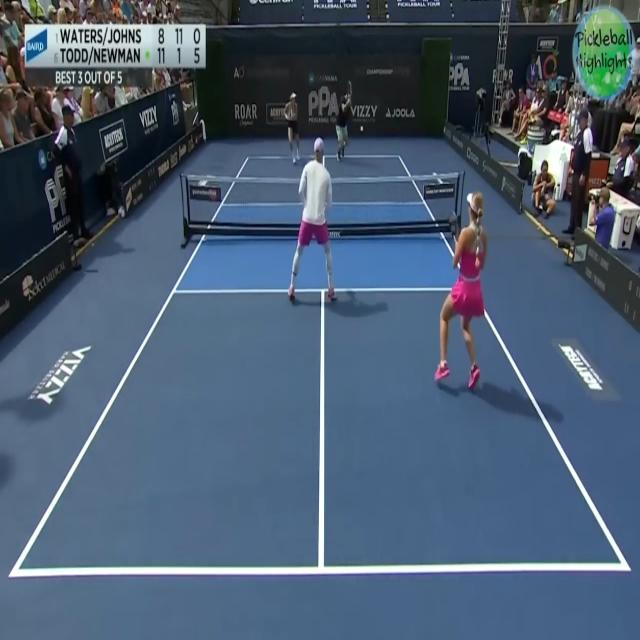Pickleball: (358, 124, 364, 134)
